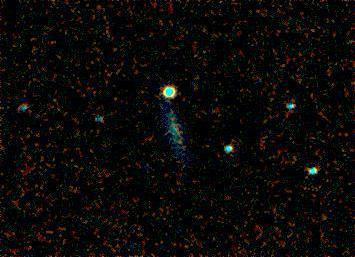star: (165, 127, 195, 157)
